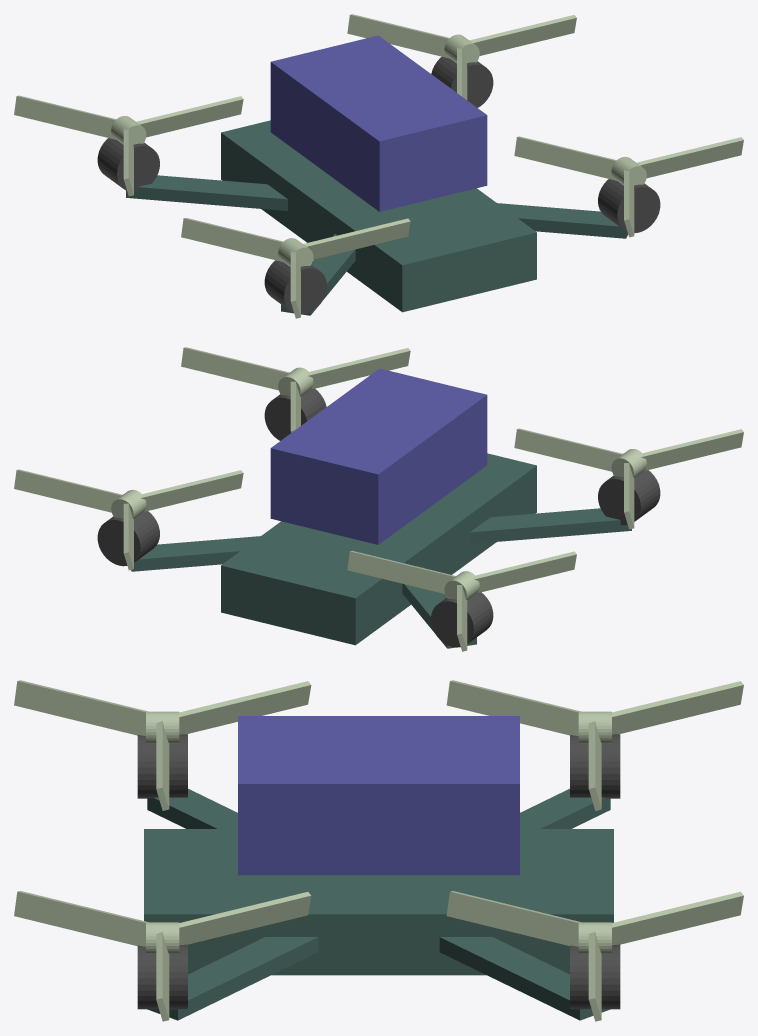
File: ZeroGrav.glb
3 renders of one model, top to bottom at view 1: azimuth 30°, elevation 25°; view 2: azimuth 150°, elevation 25°; view 3: azimuth 270°, elevation 25°, orthographic. The views are drawn at different scales.
Parts seen in each view (by area): view 1: battery, frame_body, prop_0, prop_2, prop_3, prop_1, arm_3, arm_0, motor_0, motor_2, motor_3, motor_1 (+1 smaller); view 2: battery, frame_body, prop_3, prop_2, prop_1, prop_0, arm_2, arm_1, motor_1, motor_3, motor_2, motor_0 (+1 smaller); view 3: battery, frame_body, prop_0, prop_1, prop_2, prop_3, arm_1, arm_0, motor_1, motor_0, motor_3, motor_2 (+2 smaller).
Part boxes in pixels (left/top/right/bottom): battery: left=270, top=35, right=487, bottom=211; frame_body: left=221, top=120, right=536, bottom=312; prop_0: left=514, top=136, right=743, bottom=237; prop_2: left=181, top=218, right=410, bottom=318; prop_3: left=14, top=95, right=243, bottom=196; prop_1: left=347, top=14, right=576, bottom=99; arm_3: left=126, top=175, right=287, bottom=210; arm_0: left=497, top=203, right=628, bottom=238; motor_0: left=598, top=179, right=660, bottom=233; motor_2: left=264, top=260, right=326, bottom=314; motor_3: left=97, top=138, right=159, bottom=192; motor_1: left=431, top=57, right=493, bottom=107; battery: left=270, top=368, right=487, bottom=544; frame_body: left=221, top=453, right=536, bottom=645; prop_3: left=347, top=550, right=576, bottom=651; prop_2: left=514, top=428, right=743, bottom=529; prop_1: left=14, top=469, right=243, bottom=570; prop_0: left=181, top=347, right=410, bottom=432; arm_2: left=470, top=508, right=631, bottom=543; arm_1: left=131, top=536, right=260, bottom=571; motor_1: left=97, top=511, right=159, bottom=566; motor_3: left=431, top=592, right=493, bottom=647; motor_2: left=598, top=470, right=660, bottom=525; motor_0: left=264, top=389, right=326, bottom=440; battery: left=238, top=716, right=519, bottom=875; frame_body: left=144, top=829, right=613, bottom=975; prop_0: left=14, top=891, right=311, bottom=1021; prop_1: left=446, top=891, right=743, bottom=1021; prop_2: left=14, top=680, right=311, bottom=810; prop_3: left=446, top=680, right=743, bottom=810; arm_1: left=439, top=937, right=610, bottom=1020; arm_0: left=147, top=937, right=318, bottom=1020; motor_1: left=570, top=944, right=620, bottom=1009; motor_0: left=137, top=944, right=187, bottom=1009; motor_3: left=570, top=734, right=620, bottom=798; motor_2: left=137, top=734, right=187, bottom=798.
Bounding box in the file's own units: 0.2251 × 0.06 × 0.2173.
